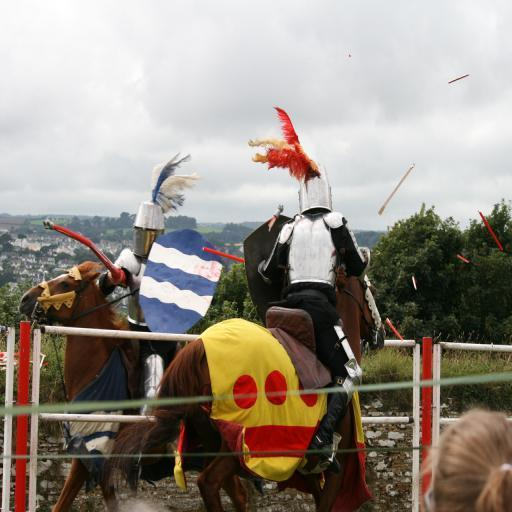horse: (99, 267, 389, 512), (16, 258, 222, 512)
